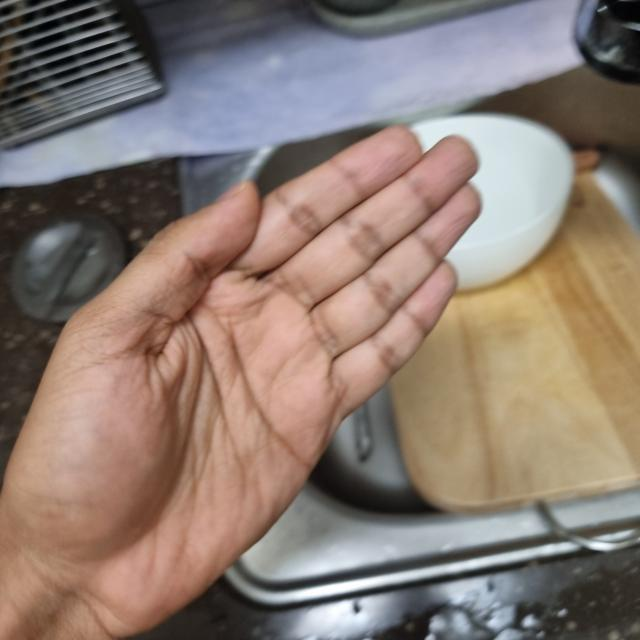Paper: (0, 125, 481, 632)
